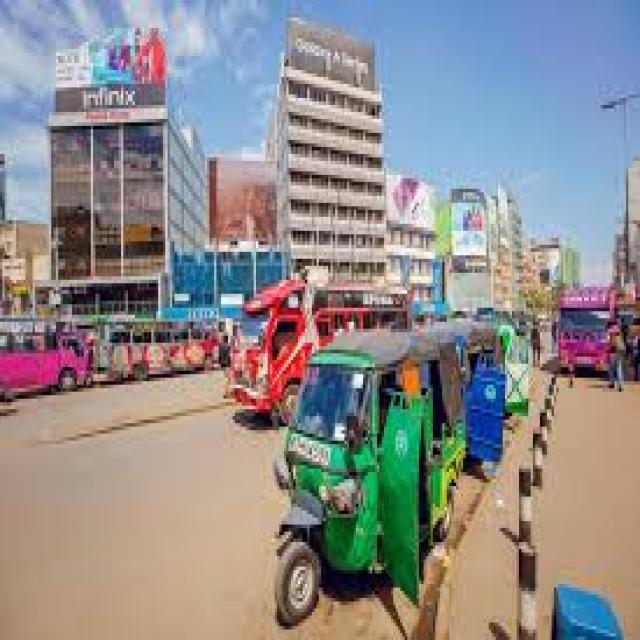bus: (106, 310, 222, 391), (223, 255, 274, 423), (2, 308, 98, 396), (556, 280, 624, 378)
tuktuk: (278, 346, 472, 636)
